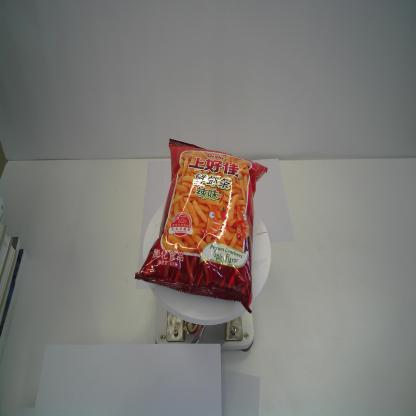Puffed Food: (134, 138, 268, 316)
